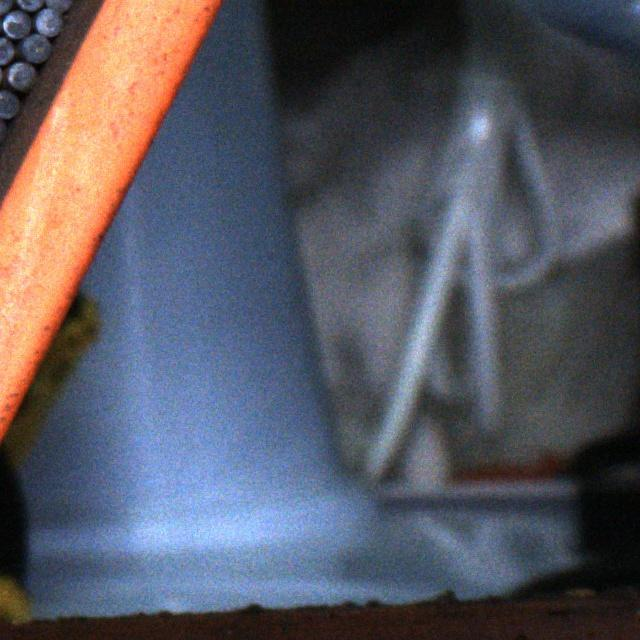tool: (5, 62, 36, 91), (20, 34, 49, 63), (0, 9, 29, 37), (33, 7, 61, 35), (0, 90, 19, 118), (0, 36, 14, 65), (46, 0, 73, 12), (16, 0, 44, 11), (0, 115, 6, 144), (0, 0, 13, 13)
